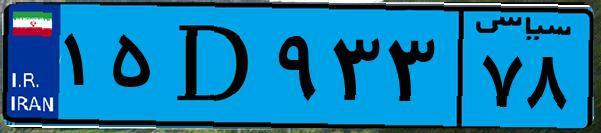1: (57, 26, 110, 100)
3: (385, 28, 445, 110), (330, 28, 385, 110)
5: (110, 28, 158, 98)
7: (475, 38, 525, 113)
8: (525, 38, 570, 115)
9: (270, 28, 330, 110)
D: (158, 12, 270, 120)
